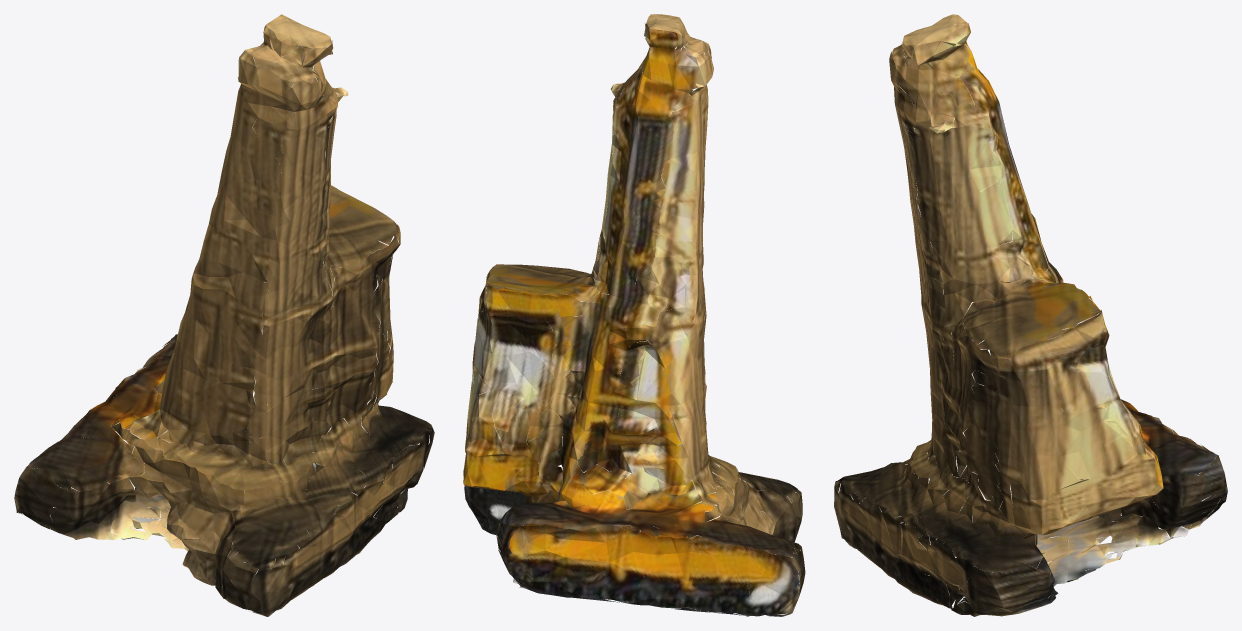
File: drill.glb
The picture shows the model from 3 angles, left to right: view 1: azimuth 30°, elevation 25°; view 2: azimuth 150°, elevation 25°; view 3: azimuth 270°, elevation 25°; orthographic projection. The views are drawn at different scales.
Visible parts, largest first — view 1: world; view 2: world; view 3: world.
Boxes of the visible parts, x1,y1,x2,y2 form: world: (14, 14, 434, 616); world: (463, 14, 805, 616); world: (834, 14, 1227, 616).
Bounding box in the file's own units: 0.7105 × 0.975 × 0.6296.
1 material, 1 textured.
